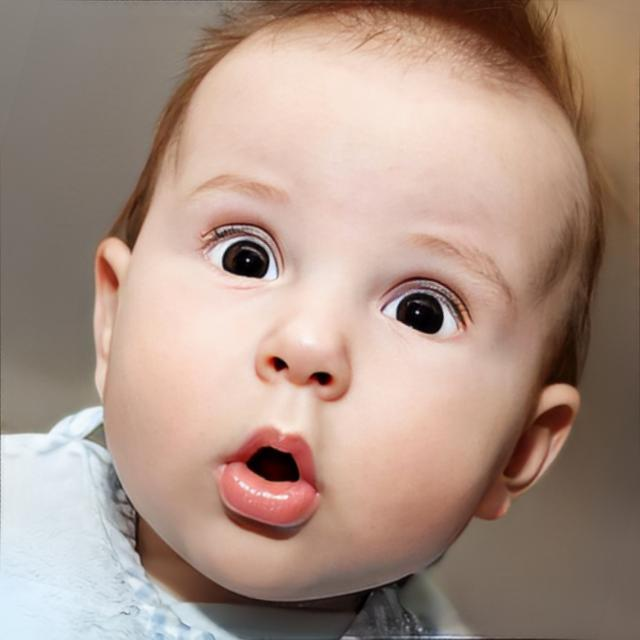surprise: (102, 9, 594, 603)
